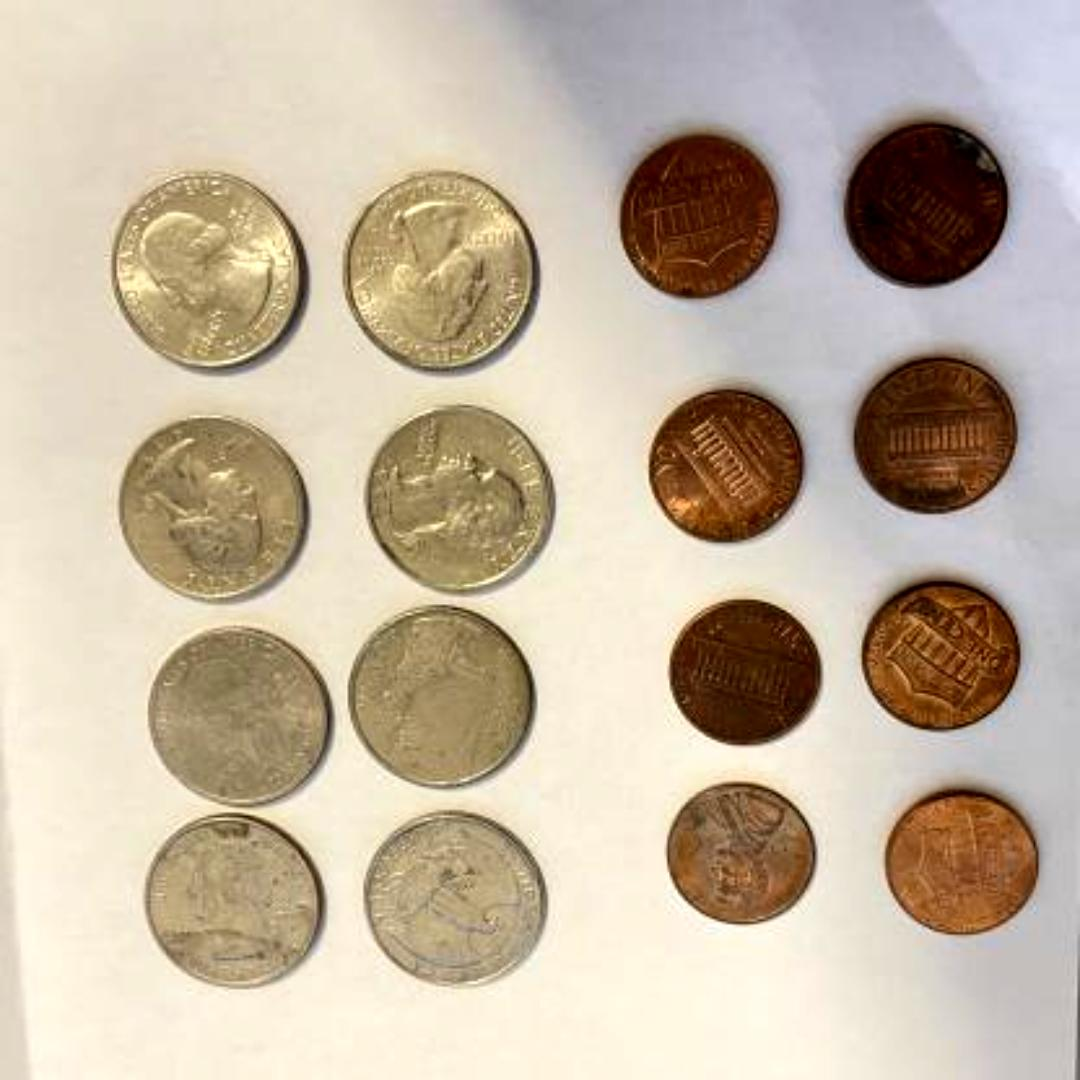Penny: (841, 117, 1007, 293), (616, 133, 778, 304), (849, 359, 1017, 519), (862, 587, 1026, 742), (664, 594, 820, 750), (647, 395, 805, 545), (882, 790, 1036, 942), (664, 782, 820, 928)
Quarter: (336, 169, 543, 379), (109, 170, 308, 376), (362, 403, 558, 600), (116, 421, 313, 605), (148, 624, 334, 813), (351, 608, 537, 794), (366, 810, 548, 992), (140, 815, 322, 991)
